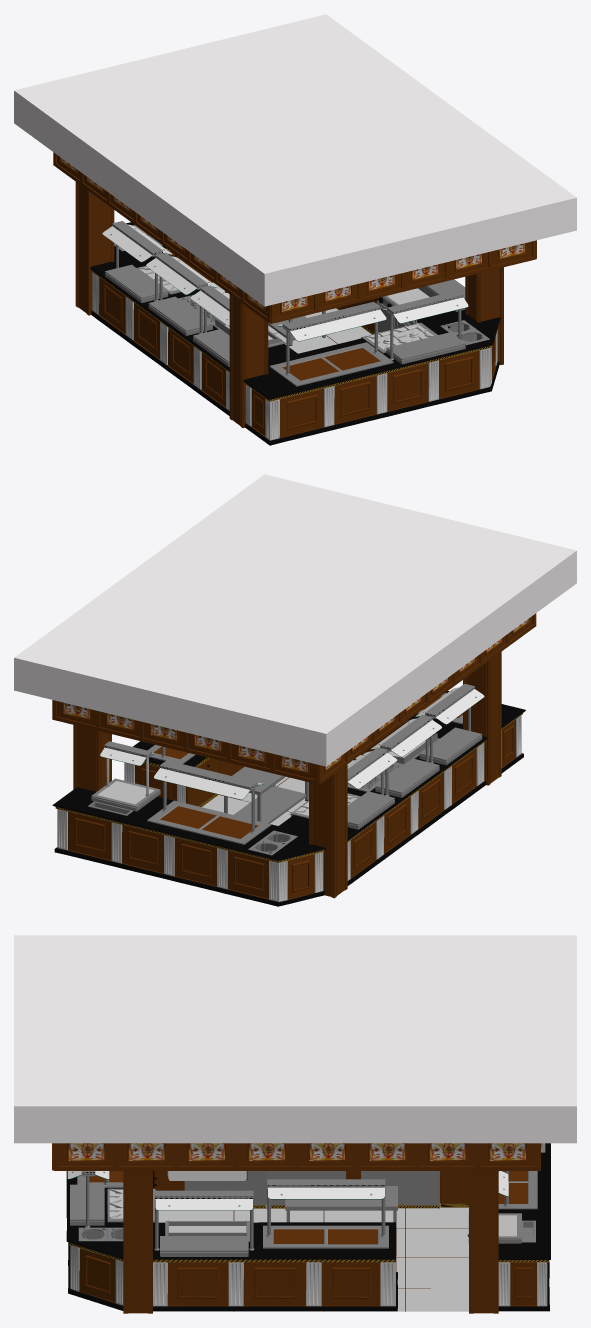
Rendered from ShowCooking.fbx.
The picture shows the model from 3 angles, top to bottom: view 1: azimuth 30°, elevation 25°; view 2: azimuth 150°, elevation 25°; view 3: azimuth 270°, elevation 25°; orthographic projection. The views are drawn at different scales.
Parts seen in each view (by area): view 1: Wall Structure.053, Wall Structure.051, Wall Structure.021, Cube.042, Wall Structure.014, Wall Structure.005, Cube.041, Cube.045, Cube.046, Wall Structure.015, Cube.044, Wall Structure.026 (+1 smaller); view 2: Wall Structure.053, Wall Structure.051, Wall Structure.021, Cube.043, Wall Structure.005, Wall Structure.014, Cube.045, Cube.044, Cube.020, Cube.046, Cube.022, Wall Structure.013 (+1 smaller); view 3: Wall Structure.053, Wall Structure.051, Wall Structure.026, Wall Structure.021, Cube.019, Wall Structure.015, Wall Structure.013, Cube.018, Cube.041, Cube.022, Wall Structure.045, Cube.043 (+6 smaller).
Boxes of the visible parts, x1,y1,x2,y2 form: Wall Structure.053: (14,14,576,323); Wall Structure.051: (91,272,499,445); Wall Structure.021: (90,222,500,401); Cube.042: (269,301,393,386); Wall Structure.014: (229,294,268,427); Wall Structure.005: (75,182,114,315); Cube.041: (382,290,468,364); Cube.045: (146,253,217,335); Cube.046: (102,221,172,302); Wall Structure.015: (465,267,503,364); Cube.044: (190,285,229,366); Wall Structure.026: (212,282,371,353); Wall Structure.053: (14,474,576,784); Wall Structure.051: (54,715,523,906); Wall Structure.021: (52,691,525,862); Cube.043: (147,760,271,844); Wall Structure.005: (309,764,347,898); Wall Structure.014: (463,652,501,785); Cube.045: (371,714,441,797); Cube.044: (415,683,484,765); Cube.020: (91,741,160,811); Cube.046: (347,747,397,829); Cube.022: (224,766,308,823); Wall Structure.013: (73,725,111,791); Wall Structure.053: (14,935,576,1170); Wall Structure.051: (68,1203,549,1311); Wall Structure.026: (153,1203,468,1311); Wall Structure.021: (66,1143,550,1262); Cube.019: (263,1179,388,1248); Wall Structure.015: (122,1171,153,1313); Wall Structure.013: (468,1171,498,1313); Cube.018: (154,1190,254,1256); Cube.041: (67,1171,109,1227); Cube.022: (285,1186,397,1255); Wall Structure.045: (400,1171,438,1205); Cube.043: (498,1171,537,1209).
Bounding box in the file's own units: 1732 × 1044 × 2407.
